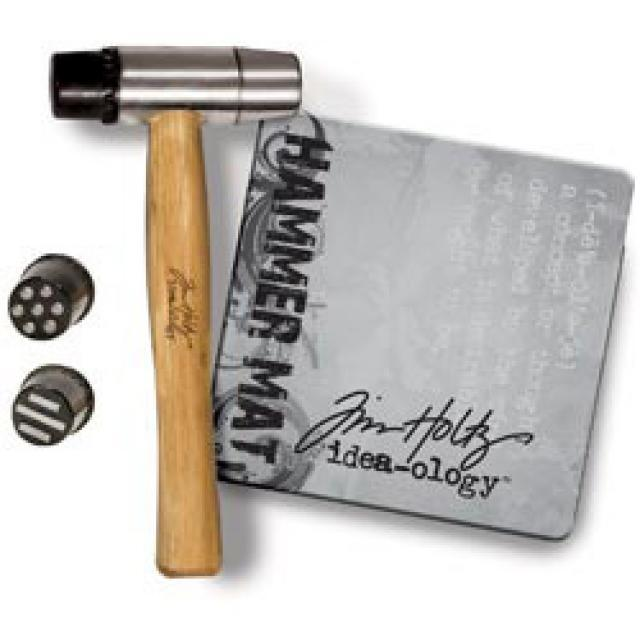hammer: (35, 36, 313, 582)
